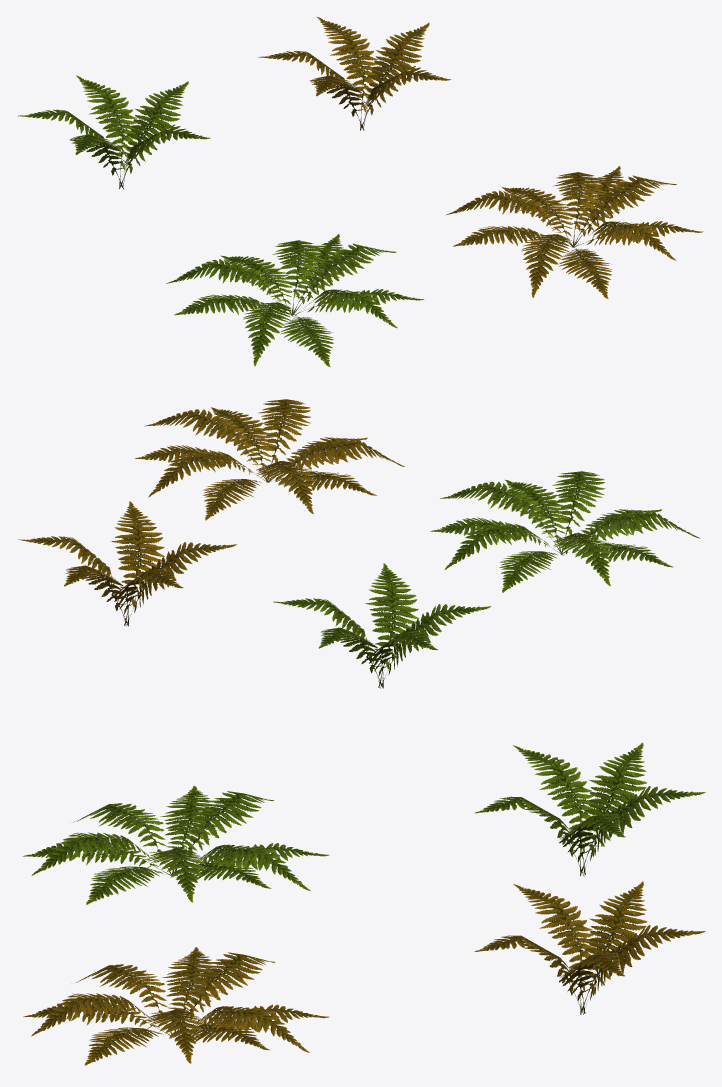
The model's file is Foliage.fbx.
3 renders of one model, top to bottom at view 1: azimuth 30°, elevation 25°; view 2: azimuth 150°, elevation 25°; view 3: azimuth 270°, elevation 25°, orthographic. The views are drawn at different scales.
Visible parts, largest first — view 1: Prop_Fern_01_B, Prop_Fern_01_A, Prop_Fern_02_B, Prop_Fern_02_A; view 2: Prop_Fern_01_A, Prop_Fern_01_B, Prop_Fern_02_A, Prop_Fern_02_B; view 3: Prop_Fern_01_A, Prop_Fern_01_B, Prop_Fern_02_A, Prop_Fern_02_B.
Boxes of the visible parts, box(x1,y1,x2,y2) form: Prop_Fern_01_B: box(446, 166, 703, 298); Prop_Fern_01_A: box(166, 234, 424, 366); Prop_Fern_02_B: box(257, 17, 451, 130); Prop_Fern_02_A: box(18, 75, 210, 189); Prop_Fern_01_A: box(430, 471, 700, 592); Prop_Fern_01_B: box(135, 399, 404, 520); Prop_Fern_02_A: box(273, 563, 491, 688); Prop_Fern_02_B: box(18, 501, 236, 626); Prop_Fern_01_A: box(22, 785, 329, 904); Prop_Fern_01_B: box(23, 947, 329, 1065); Prop_Fern_02_A: box(475, 742, 705, 876); Prop_Fern_02_B: box(474, 881, 705, 1014).
Bounding box in the file's own units: 554 × 84.79 × 554.
